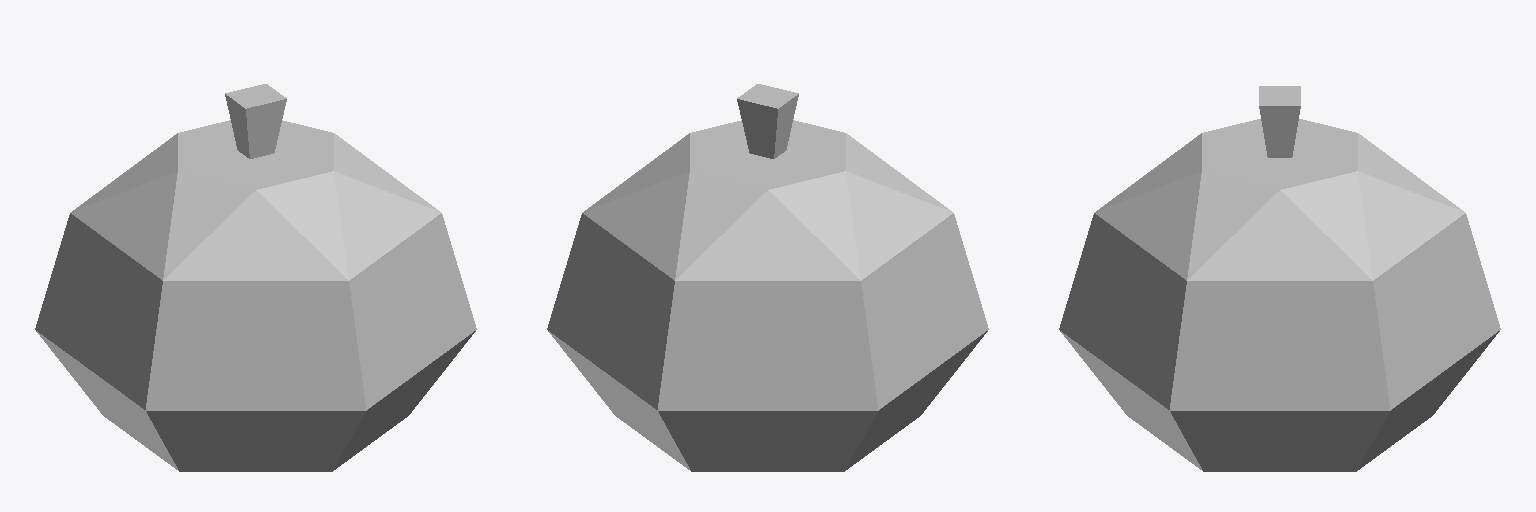
File: pumpkin.obj
The picture shows the model from 3 angles: view 1: azimuth 30°, elevation 25°; view 2: azimuth 150°, elevation 25°; view 3: azimuth 270°, elevation 25°; orthographic projection.
Visible parts, largest first — view 1: pumpkin; view 2: pumpkin; view 3: pumpkin.
Boxes of the visible parts, box(x1,y1,x2,y2) form: pumpkin: box(35, 84, 476, 471); pumpkin: box(547, 84, 988, 471); pumpkin: box(1059, 86, 1500, 471).
Size of the model in its own units: 2.94 by 2.71 by 3.4.